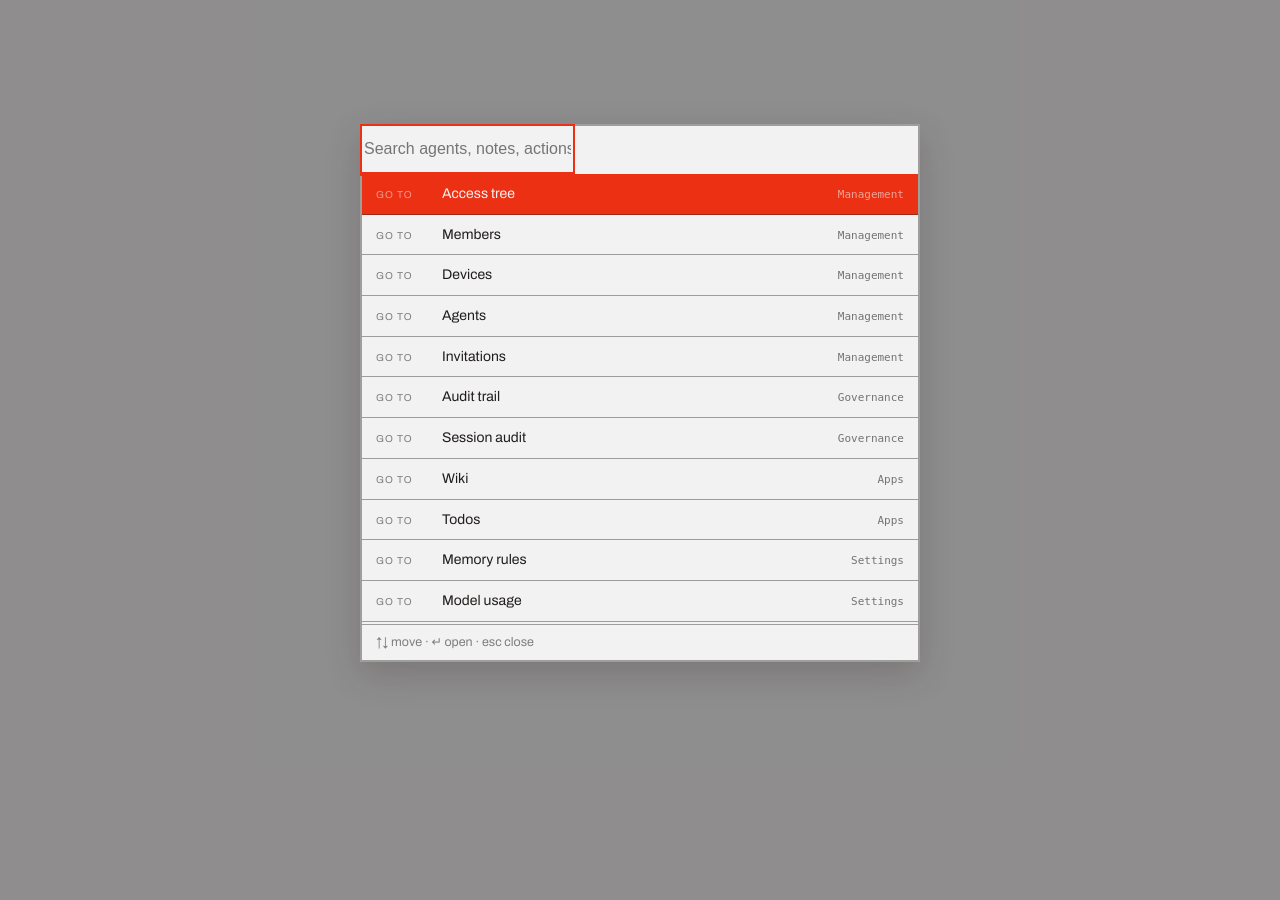
CommandPalette › lists navigation actions filtered by the query
Type "devices" into the dropdown labelled "Search". click: (468, 150)
box: [362,126,573,174]
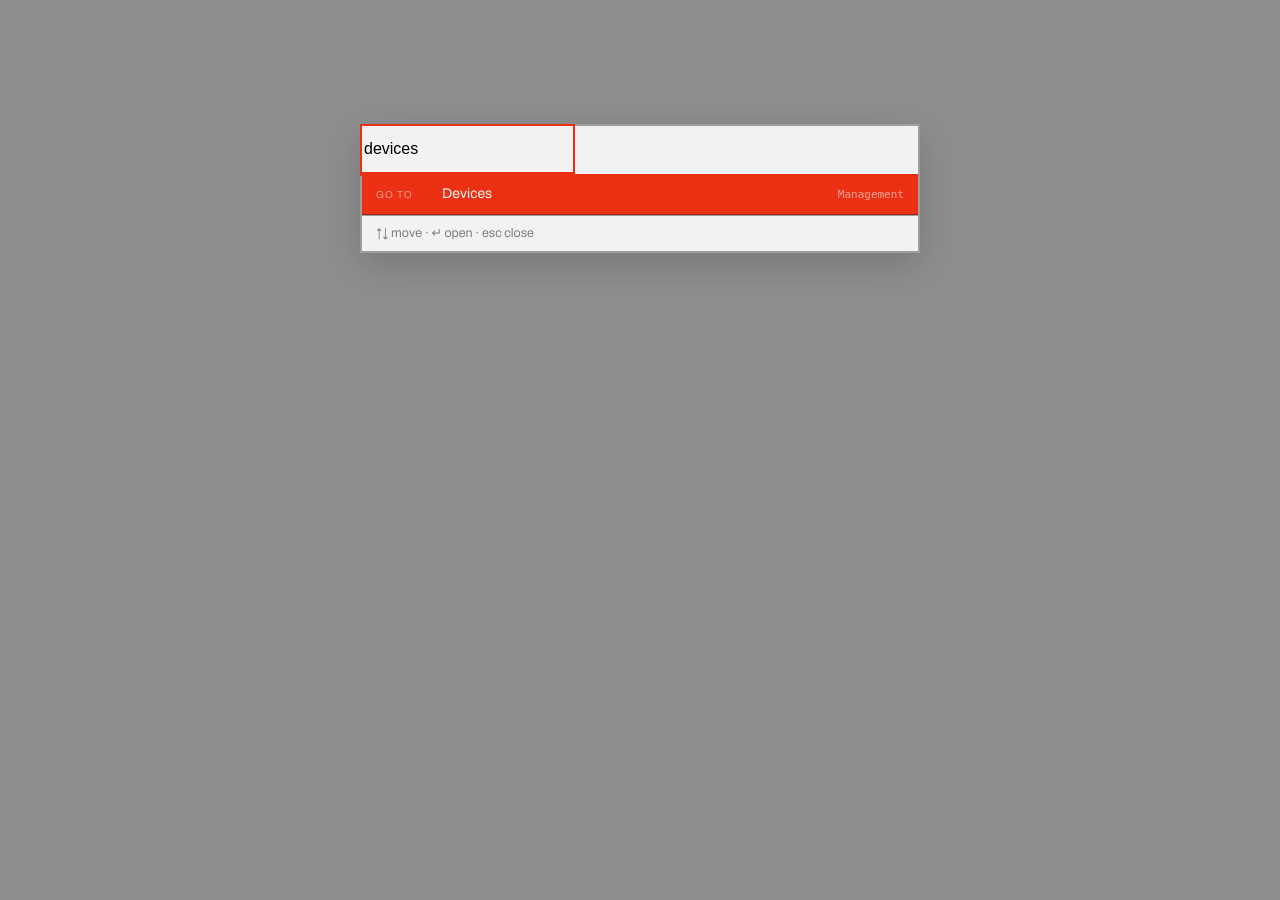
expect the option "Go to Devices Management" is shown: met, box [362,174,918,215]
expect the option "Audit trail" is gone: met
